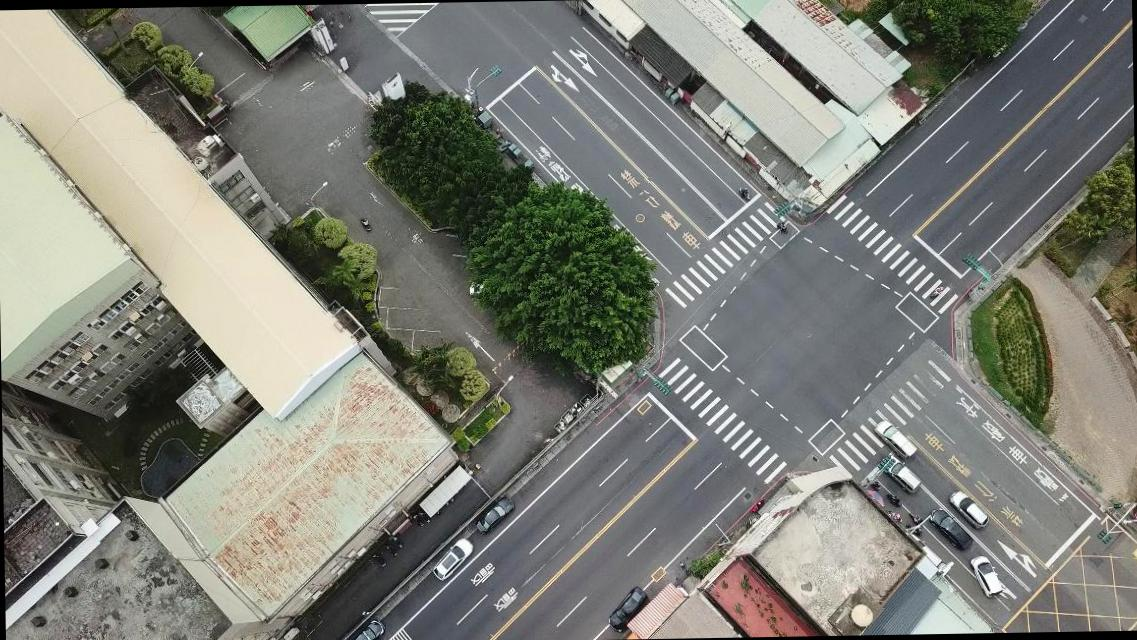vehicle: (430, 536, 476, 584), (927, 506, 973, 552), (606, 586, 648, 632), (878, 452, 923, 493), (873, 419, 918, 460), (948, 488, 990, 530), (473, 495, 517, 535), (969, 553, 1004, 599), (346, 617, 387, 639)
